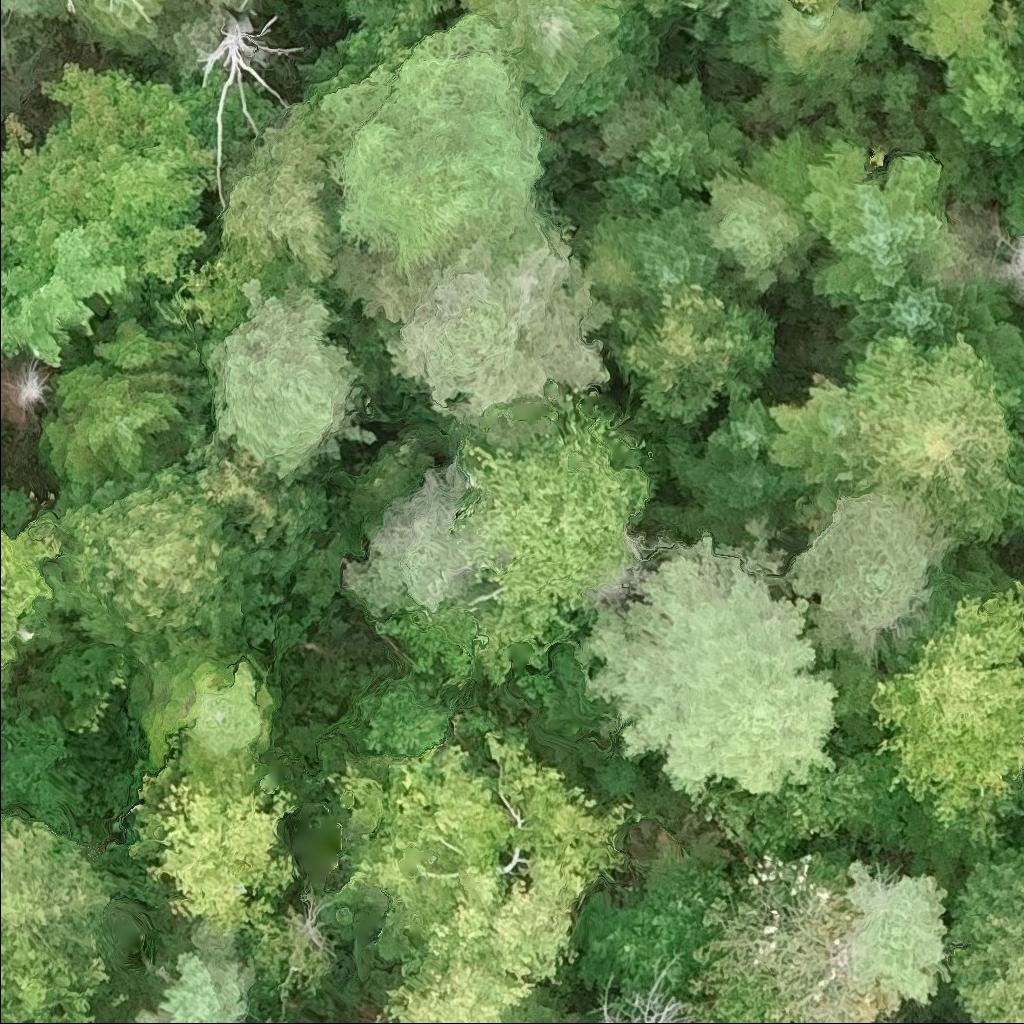crown: (321, 724, 649, 1023), (569, 512, 841, 806), (333, 206, 618, 426), (313, 17, 548, 276), (458, 397, 657, 673), (0, 61, 220, 299), (45, 463, 277, 658), (833, 332, 1023, 554), (866, 578, 1023, 846), (684, 842, 905, 1023), (199, 266, 382, 479), (771, 490, 961, 664), (119, 762, 300, 933), (800, 136, 958, 313), (452, 0, 668, 127), (595, 279, 776, 425), (221, 96, 340, 288), (180, 432, 327, 583), (36, 360, 208, 489), (142, 631, 276, 789), (0, 810, 118, 972), (0, 224, 130, 369), (842, 858, 953, 1007), (826, 271, 1012, 357), (195, 9, 289, 178), (688, 169, 811, 297), (717, 0, 886, 92), (945, 846, 1023, 1023), (766, 370, 848, 517), (634, 71, 725, 197), (605, 198, 724, 294), (668, 442, 780, 542), (946, 13, 1023, 153), (0, 508, 64, 673), (0, 926, 96, 1023), (153, 952, 259, 1023), (898, 0, 1005, 62), (599, 958, 695, 1023), (589, 159, 690, 216), (704, 392, 776, 460), (332, 0, 455, 30), (986, 227, 1023, 304), (504, 988, 582, 1023), (9, 362, 50, 426), (639, 0, 738, 19), (111, 0, 154, 23), (0, 0, 44, 18), (1008, 432, 1023, 484), (128, 1007, 167, 1023), (788, 0, 827, 16), (192, 0, 243, 11), (66, 0, 86, 15), (1015, 495, 1023, 530), (266, 1016, 297, 1023), (0, 671, 5, 707)
